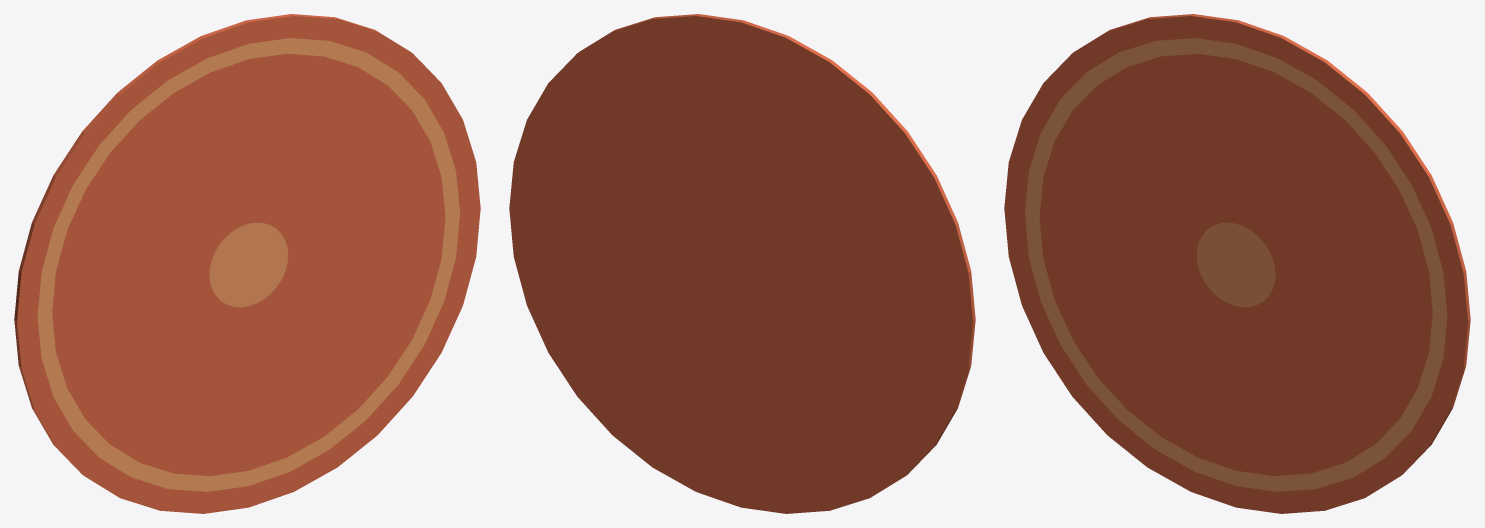
3 renders of one model, left to right at view 1: azimuth 30°, elevation 25°; view 2: azimuth 150°, elevation 25°; view 3: azimuth 330°, elevation 25°, orthographic.
Parts seen in each view (by area): view 1: Cylinder; view 2: Cylinder; view 3: Cylinder.
Part boxes in pixels (left/top/right/bottom): Cylinder: left=14, top=14, right=480, bottom=513; Cylinder: left=509, top=14, right=975, bottom=513; Cylinder: left=1004, top=14, right=1470, bottom=513.
Bounding box in the file's own units: 2 × 2 × 0.02.
1 material, 1 textured.
